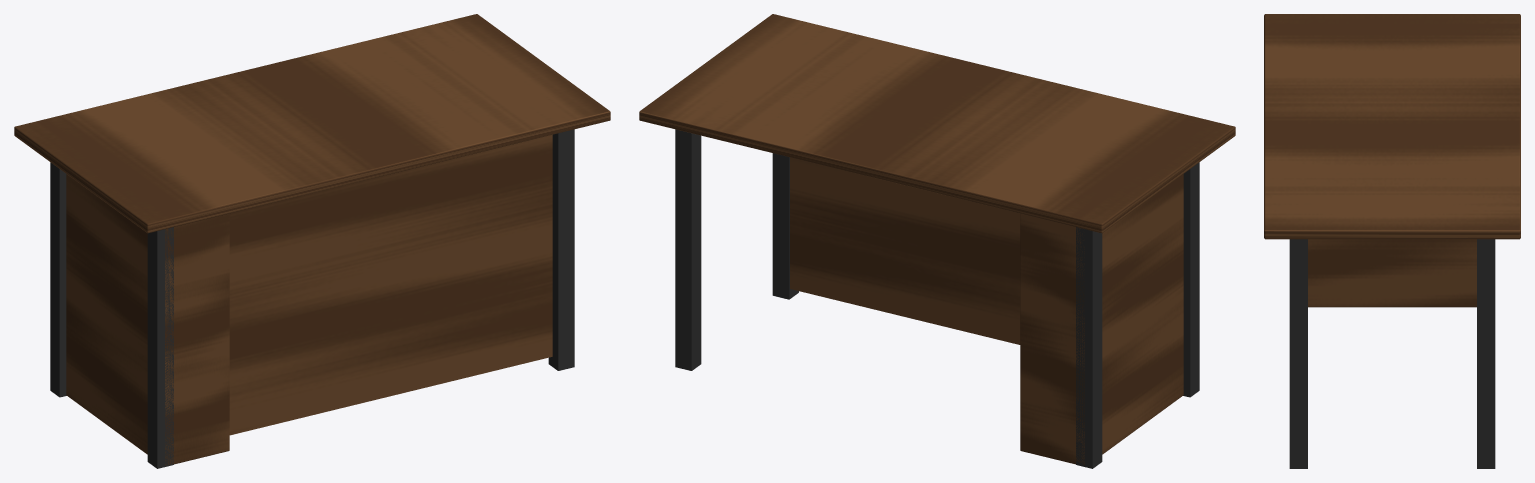
File: desk_1_classic.fbx
3 views of the same model, side by side, from view 1: azimuth 30°, elevation 25°; view 2: azimuth 150°, elevation 25°; view 3: azimuth 270°, elevation 25° (orthographic). The views are drawn at different scales.
Parts seen in each view (by area): view 1: modesty, top, pedestal, leg11, leg-11, leg1-1; view 2: top, pedestal, modesty, leg-1-1, leg1-1, leg11, leg-11; view 3: top, pedestal, leg-1-1, leg-11.
Part boxes in pixels (x1,y1,x2,y2): modesty: (229,134,552,435); top: (14,14,610,233); pedestal: (66,174,229,465); leg11: (147,227,173,468); leg-11: (548,129,574,370); leg1-1: (50,162,66,397); top: (639,14,1235,233); pedestal: (1020,174,1183,465); modesty: (790,157,1020,344); leg-1-1: (675,129,701,370); leg1-1: (1076,227,1102,468); leg11: (1183,162,1199,397); leg-11: (772,153,798,299); top: (1264,14,1520,239); pedestal: (1308,239,1476,307); leg-1-1: (1477,239,1495,468); leg-11: (1289,239,1307,468).
Size of the model in its own units: 140 by 75 by 70.
Materials: 3 (2 with a texture image).
